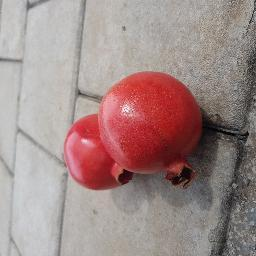Good_pomegranate: (101, 68, 224, 190), (60, 111, 137, 199)
